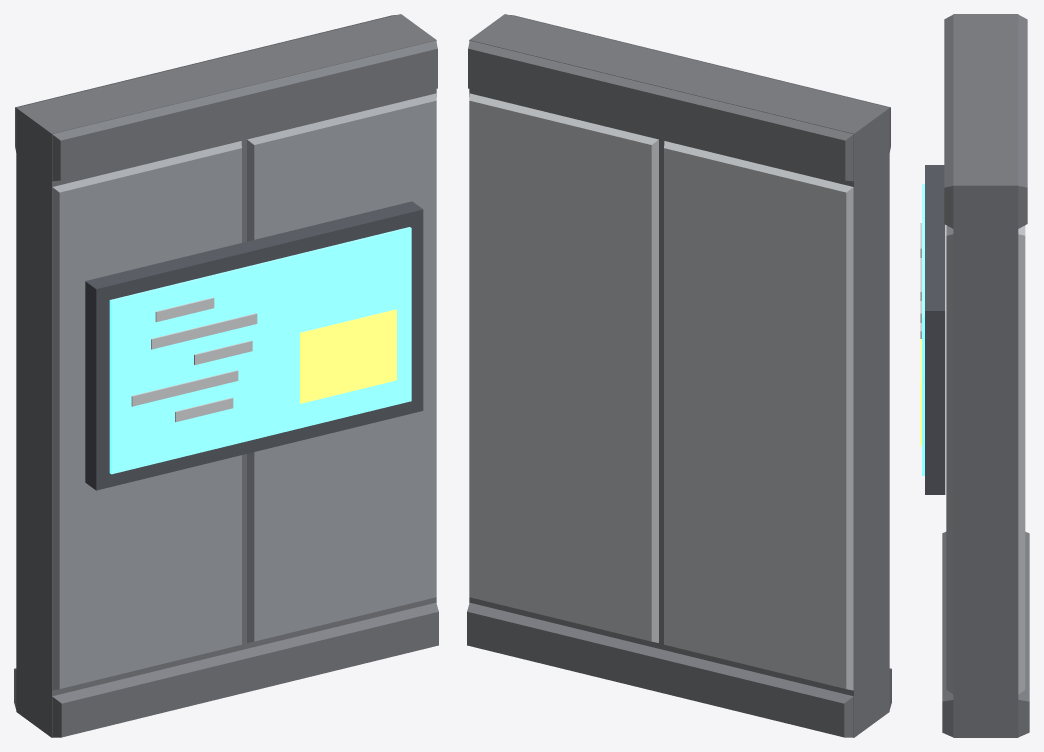
File: SM_Wall_Monitor.glb
The picture shows the model from 3 angles, left to right: view 1: azimuth 30°, elevation 25°; view 2: azimuth 150°, elevation 25°; view 3: azimuth 270°, elevation 25°; orthographic projection. The views are drawn at different scales.
Visible parts, largest first — view 1: SM_Wall_Monitor; view 2: SM_Wall_Monitor; view 3: SM_Wall_Monitor.
Part boxes in pixels (x1=…): SM_Wall_Monitor: x1=14, y1=14, x2=438, y2=737; SM_Wall_Monitor: x1=467, y1=14, x2=891, y2=737; SM_Wall_Monitor: x1=920, y1=14, x2=1029, y2=737.
Bounding box in the file's own units: 2 × 3 × 0.537.
